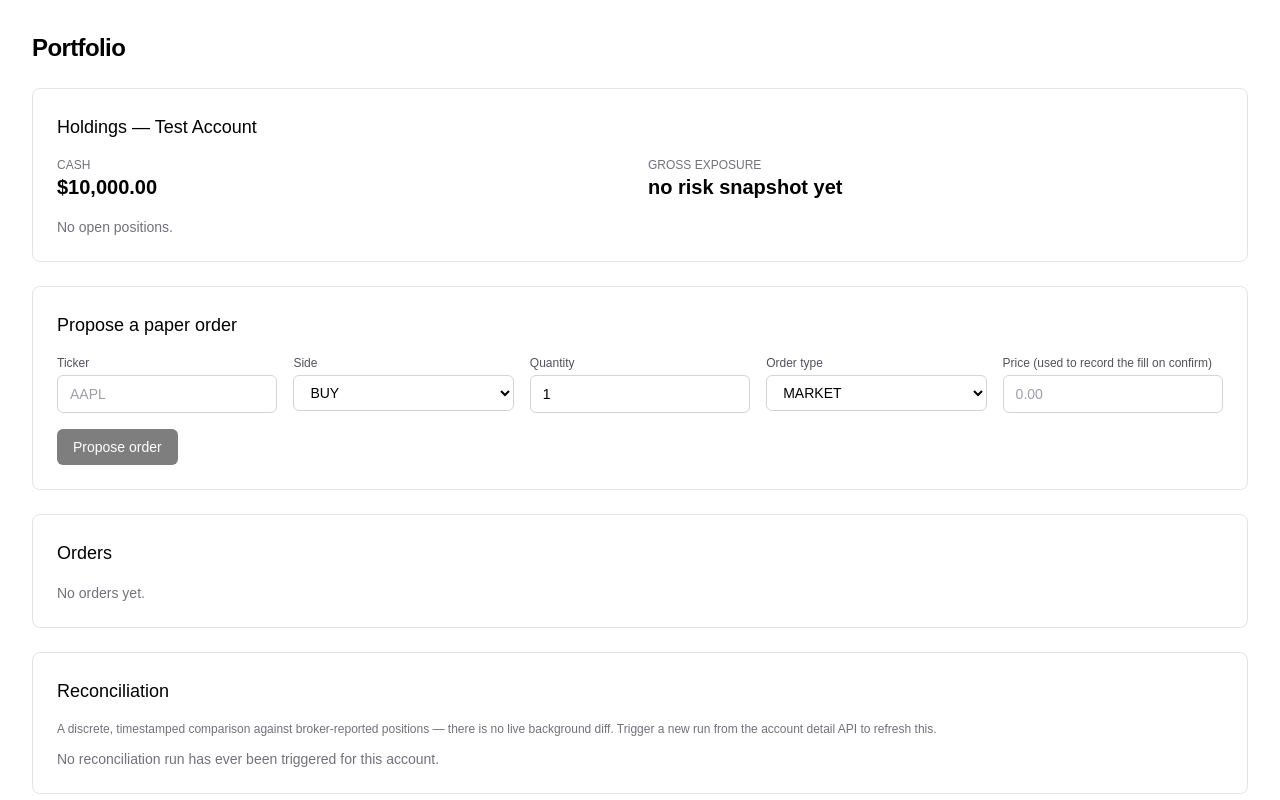
Test: PortfolioPage — order create→confirm flow › surfaces a create error via ErrorBanner without adding a row
Type "aapl" into the field with placeholder "AAPL" at (167, 394), box [57,375,277,413]
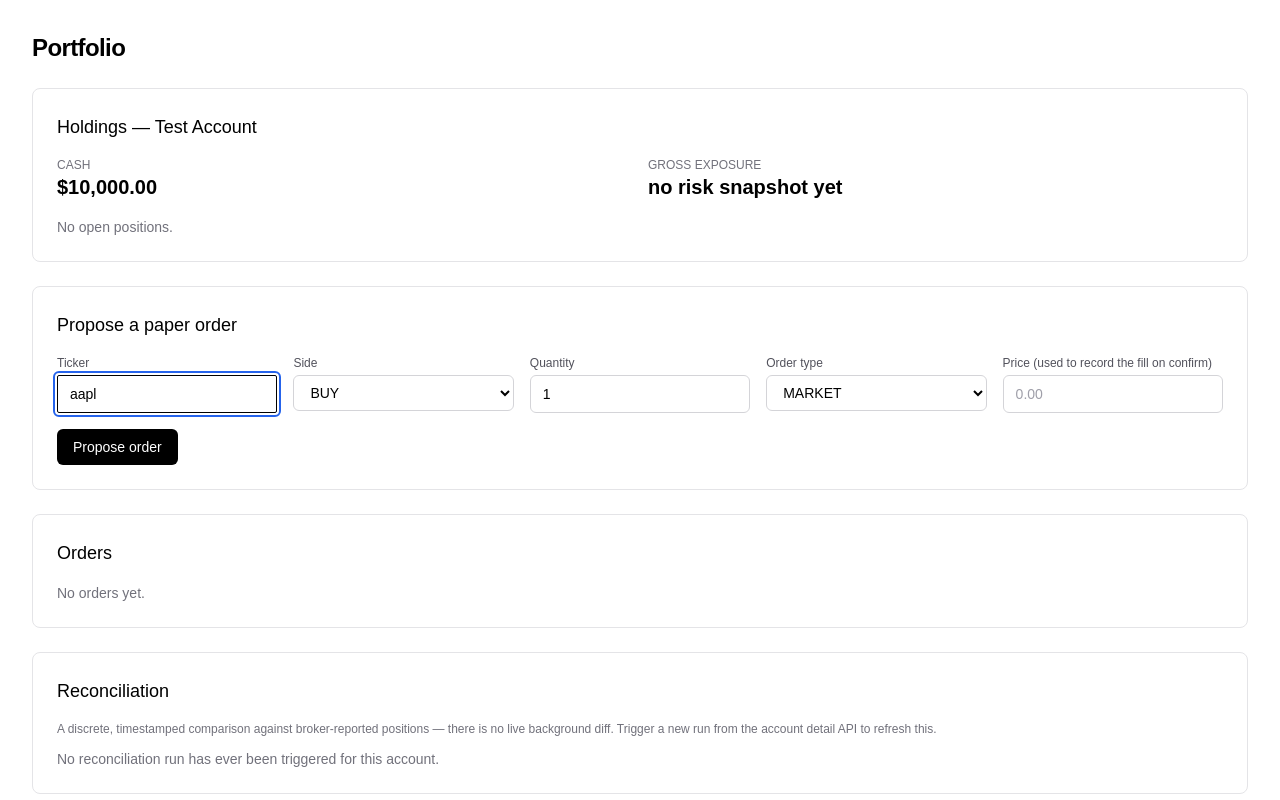
Type "150.00" into the field with placeholder "0.00" at (1113, 394), box [1003,375,1223,413]
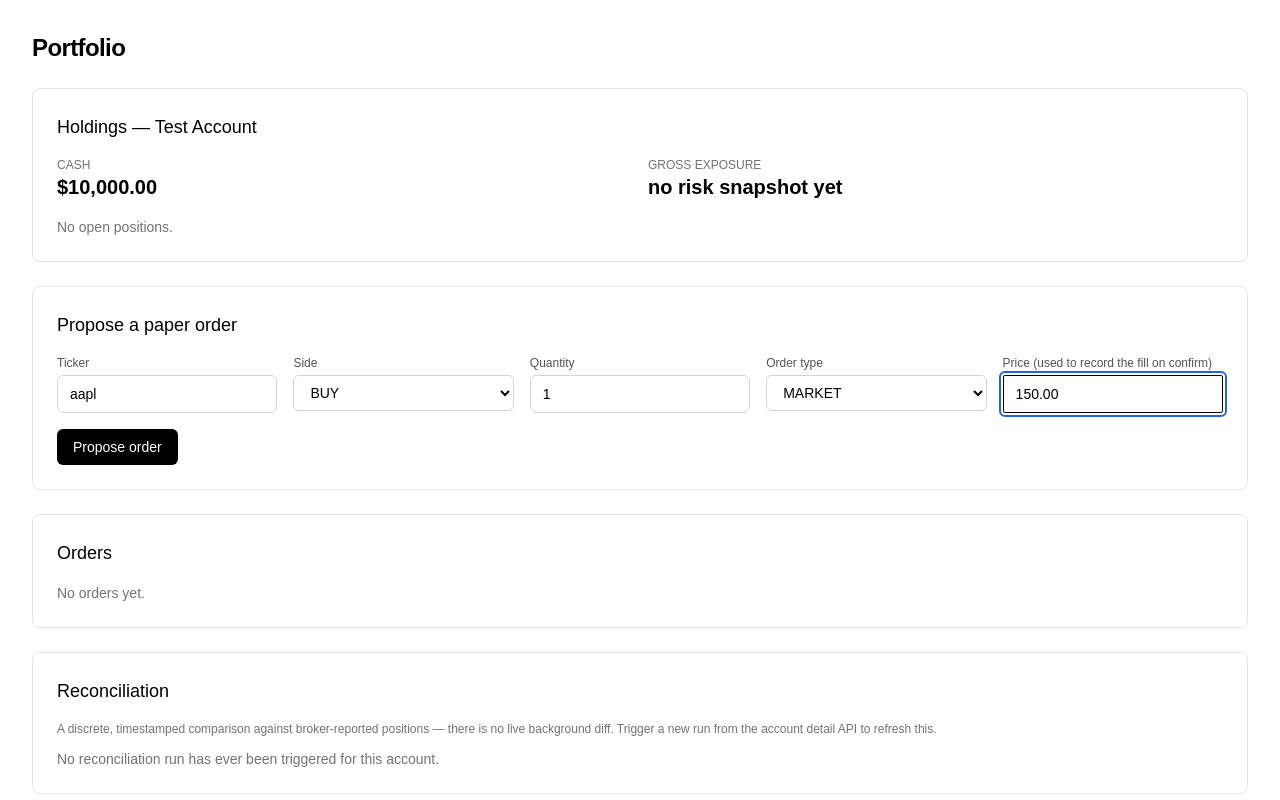
Now the button "Propose order" is enabled
Click the button "Propose order" at (117, 447), box [57,429,178,465]
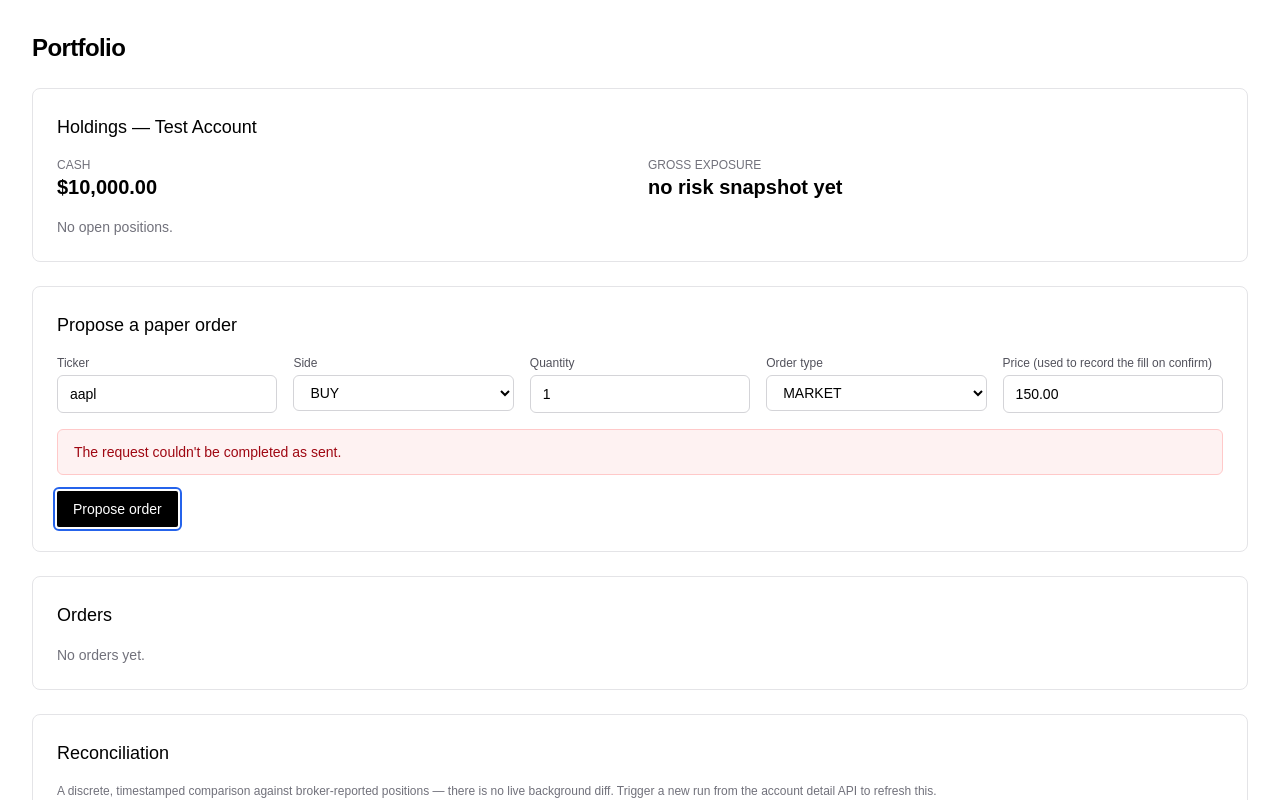
Expected: the text "No orders yet." is shown, [57,647,145,663]
Now the message reads "The request couldn't be completed as sent.", box [74,444,341,460]
